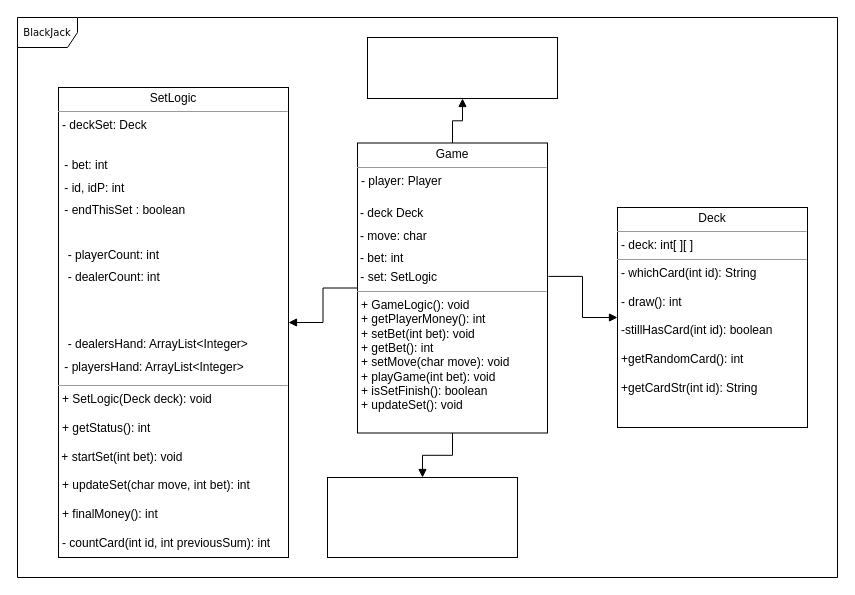
This 855x595 diagram has some shape labels left out. Each missing label, with the centre of its shape:
"Cli + main(): void" goes at pixel 462 67.
"Player + getMoney(): void + setMoney ( int money ): void" goes at pixel 422 517.
